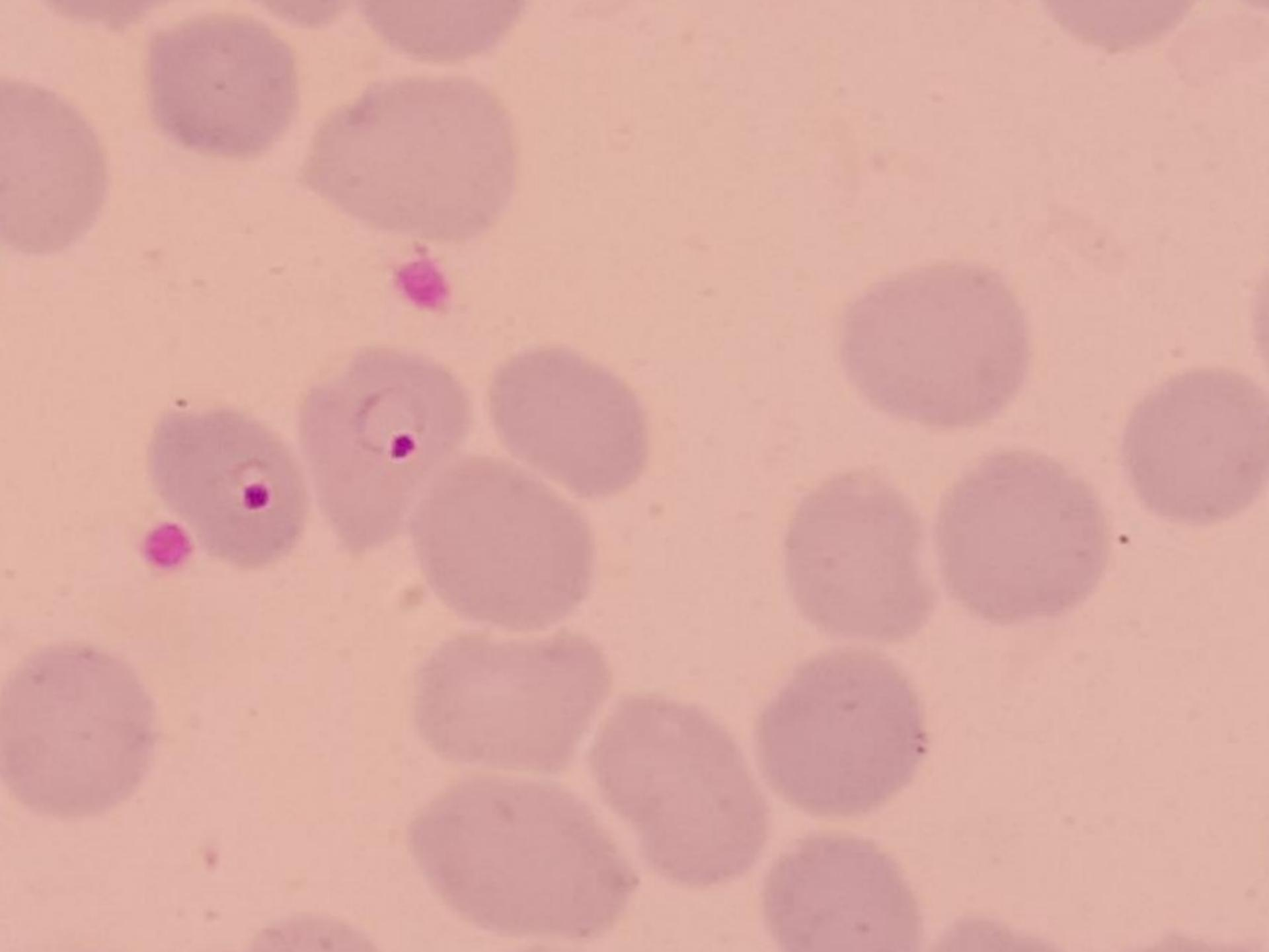Infected: (296, 349, 469, 551), (147, 412, 313, 570)
Uninfected: (406, 773, 640, 933), (299, 75, 518, 237), (588, 691, 772, 883), (943, 450, 1116, 623), (416, 623, 609, 772), (416, 471, 595, 628), (843, 265, 1027, 417), (0, 644, 160, 818), (486, 337, 649, 499), (762, 653, 924, 814), (787, 471, 933, 643), (1125, 370, 1269, 525), (152, 10, 301, 153), (767, 828, 921, 952), (0, 81, 106, 252)
